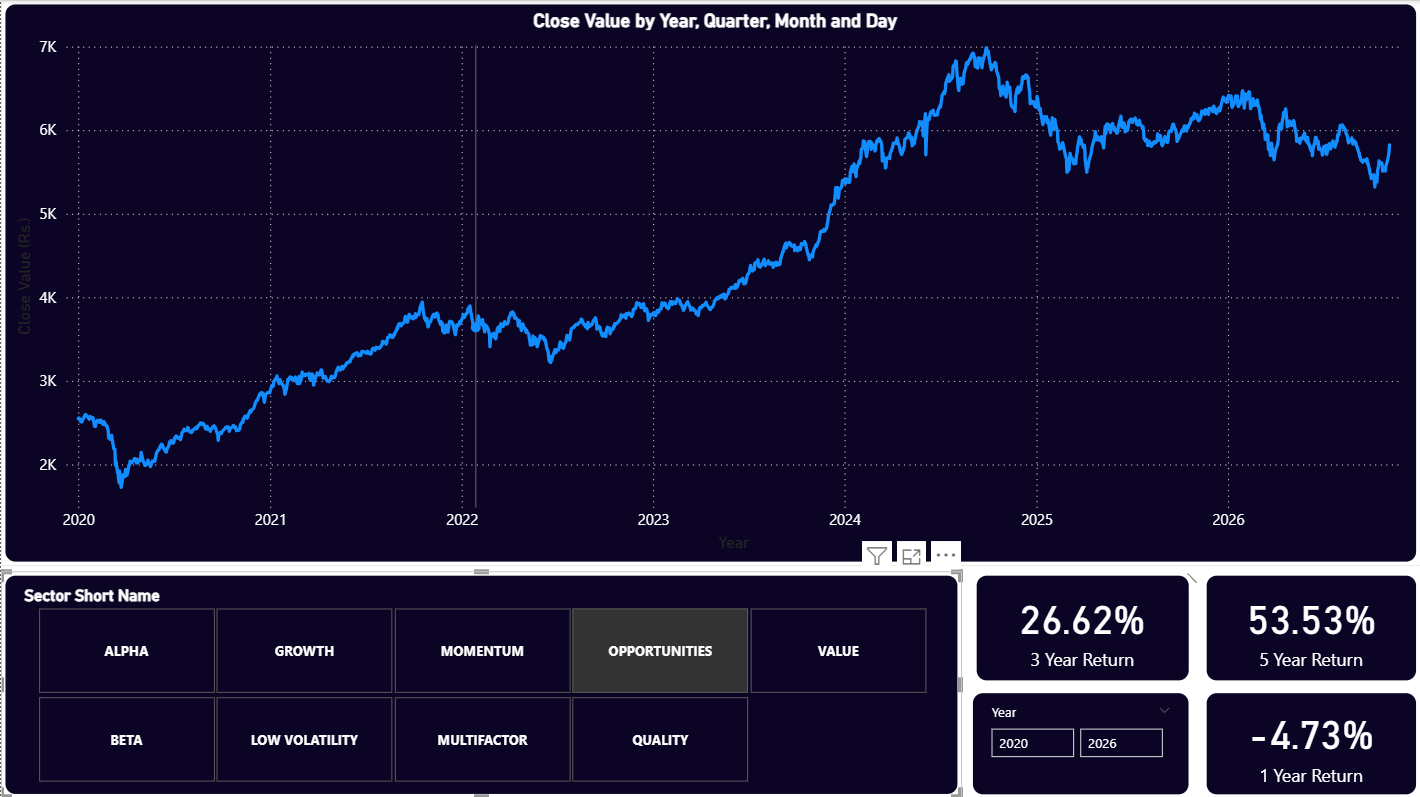

Layout of this report page (visuals, bound fields, positions):
{"tool":"powerbi","page":{"name":"Individual Report","canvas":[1280,720],"ordinal":1},"visuals":[{"type":"lineChart","title":" Close Value by Year, Quarter, Month and Day","fields":{"Category":["Date Table.Date.Variation.Date Hierarchy.Year","Date Table.Date.Variation.Date Hierarchy.Quarter","Date Table.Date.Variation.Date Hierarchy.Month","Date Table.Date.Variation.Date Hierarchy.Day"],"Y":["Max(Combine Data.Close)"]},"box":[0,0,1280.2,510.5],"z":0},{"type":"slicer","fields":{"Values":["Combine Data.Sector Short Name"]},"box":[0,515.1,866.3,204.7],"z":1000},{"type":"slicer","fields":{"Values":["Date Table.Year"]},"box":[872.1,620.9,202.3,98.8],"z":2000},{"type":"card","fields":{"Values":["Combine Data.3 Year Return"]},"box":[875.6,514.5,198.8,102.3],"z":3000},{"type":"card","fields":{"Values":["Combine Data.5 Year Return"]},"box":[1083.7,514.5,196.5,102.3],"z":4000},{"type":"card","fields":{"Values":["Combine Data.1 Year Return"]},"box":[1083.7,620.9,196.5,98.8],"z":5000}]}

Visuals, with their boxes in screenshot pixels (x1, y1, x2, y2), scaled from the page's 1280x720 canvas onto the 1420x797 screenshot:
" Close Value by Year, Quarter, Month and Day" lineChart: 0/0/1419/565
slicer - Combine Data.Sector Short Name: 0/570/961/796
slicer - Date Table.Year: 967/687/1192/796
card - Combine Data.3 Year Return: 971/570/1192/683
card - Combine Data.5 Year Return: 1202/570/1419/683
card - Combine Data.1 Year Return: 1202/687/1419/796
